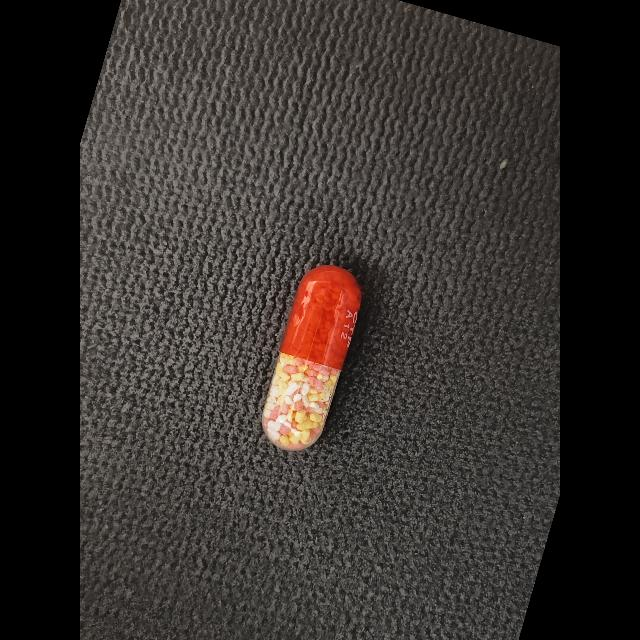Intact Capsule: (262, 265, 362, 451)
